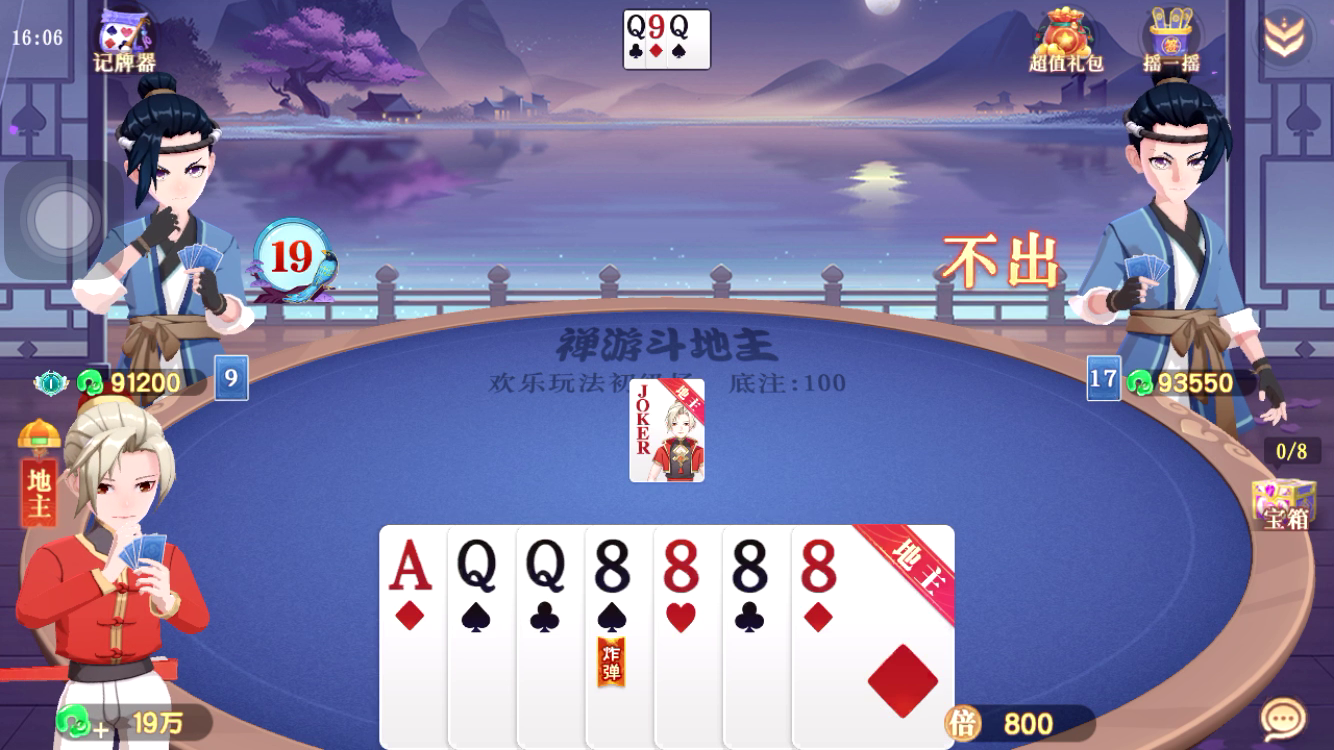A: (383, 534, 438, 597)
JOKER: (629, 380, 655, 433)
Q: (521, 533, 571, 600), (451, 532, 501, 598), (625, 11, 647, 43), (667, 12, 690, 42)
eight: (794, 532, 851, 598), (588, 532, 642, 599), (727, 532, 779, 599), (659, 536, 708, 597)
nine: (645, 12, 667, 42)
